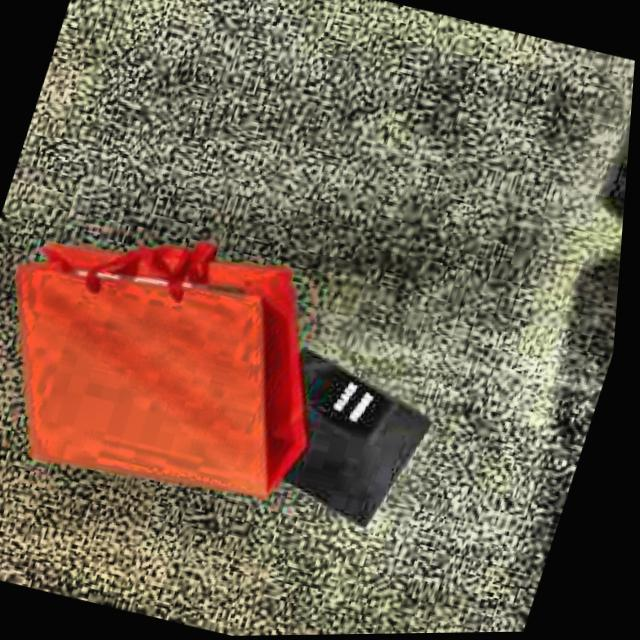Paper-bag: (0, 203, 376, 535), (208, 318, 467, 557)
